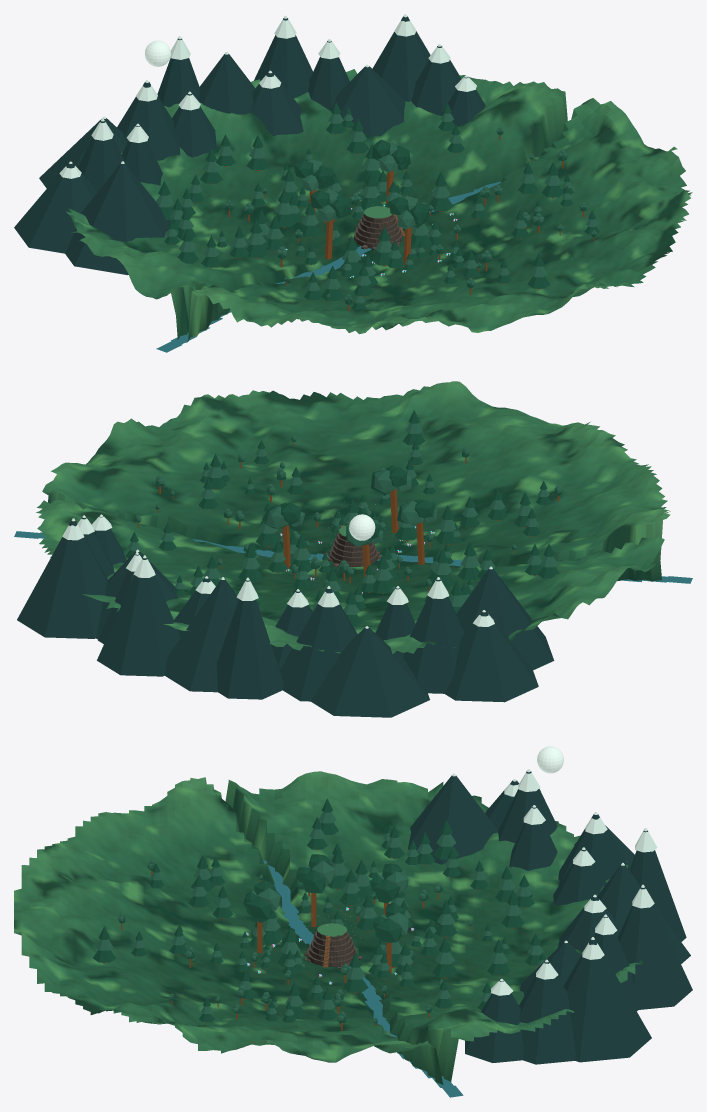
The model's file is env_guardian.glb.
3 renders of one model, top to bottom at view 1: azimuth 30°, elevation 25°; view 2: azimuth 150°, elevation 25°; view 3: azimuth 270°, elevation 25°, orthographic. The views are drawn at different scales.
Parts seen in each view (by area): view 1: env_terrain_vc, env_mountain, env_pine_d, env_pine_l, env_snowcap, env_bark, env_rock, env_river, env_moon; view 2: env_terrain_vc, env_mountain, env_pine_d, env_pine_l, env_snowcap, env_bark, env_river, env_rock, env_moon; view 3: env_terrain_vc, env_mountain, env_pine_d, env_pine_l, env_snowcap, env_river, env_rock, env_bark, env_moon.
Part boxes in pixels (left/top/right/bottom): env_terrain_vc: left=66, top=69, right=692, bottom=342; env_mountain: left=14, top=16, right=485, bottom=275; env_pine_d: left=158, top=102, right=599, bottom=310; env_pine_l: left=156, top=113, right=597, bottom=303; env_snowcap: left=59, top=14, right=476, bottom=178; env_bark: left=171, top=127, right=594, bottom=311; env_rock: left=348, top=206, right=402, bottom=249; env_river: left=156, top=181, right=500, bottom=352; env_moon: left=144, top=40, right=170, bottom=66; env_terrain_vc: left=36, top=381, right=670, bottom=653; env_mountain: left=17, top=515, right=554, bottom=717; env_pine_d: left=125, top=410, right=562, bottom=626; env_pine_l: left=127, top=423, right=562, bottom=614; env_snowcap: left=62, top=514, right=494, bottom=628; env_bark: left=137, top=442, right=559, bottom=593; env_river: left=14, top=531, right=692, bottom=583; env_rock: left=323, top=525, right=381, bottom=566; env_moon: left=349, top=514, right=375, bottom=540; env_terrain_vc: left=14, top=771, right=642, bottom=1084; env_mountain: left=407, top=771, right=692, bottom=1064; env_pine_d: left=93, top=798, right=545, bottom=1023; env_pine_l: left=95, top=812, right=544, bottom=1022; env_snowcap: left=452, top=769, right=657, bottom=995; env_river: left=263, top=860, right=463, bottom=1097; env_rock: left=303, top=923, right=362, bottom=969; env_bark: left=103, top=849, right=536, bottom=1030; env_moon: left=537, top=746, right=563, bottom=773.
Bounding box in the file's own units: 146 × 37.8 × 149.
Materials: 6 (6 with a texture image).
